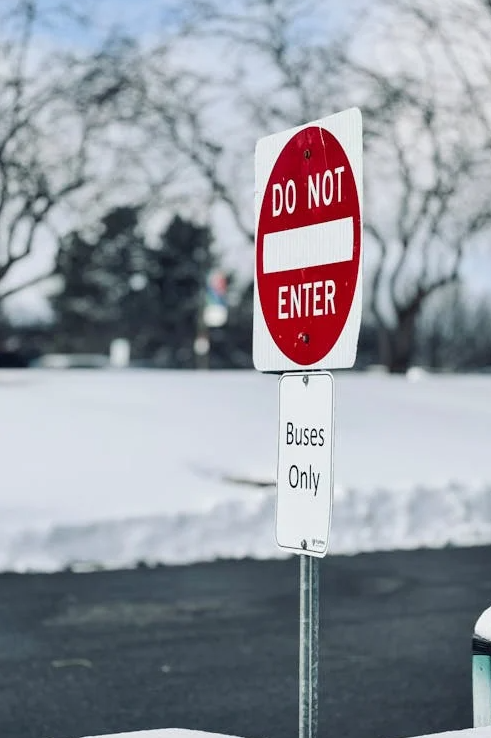Do Not Enter: (258, 126, 360, 368)
